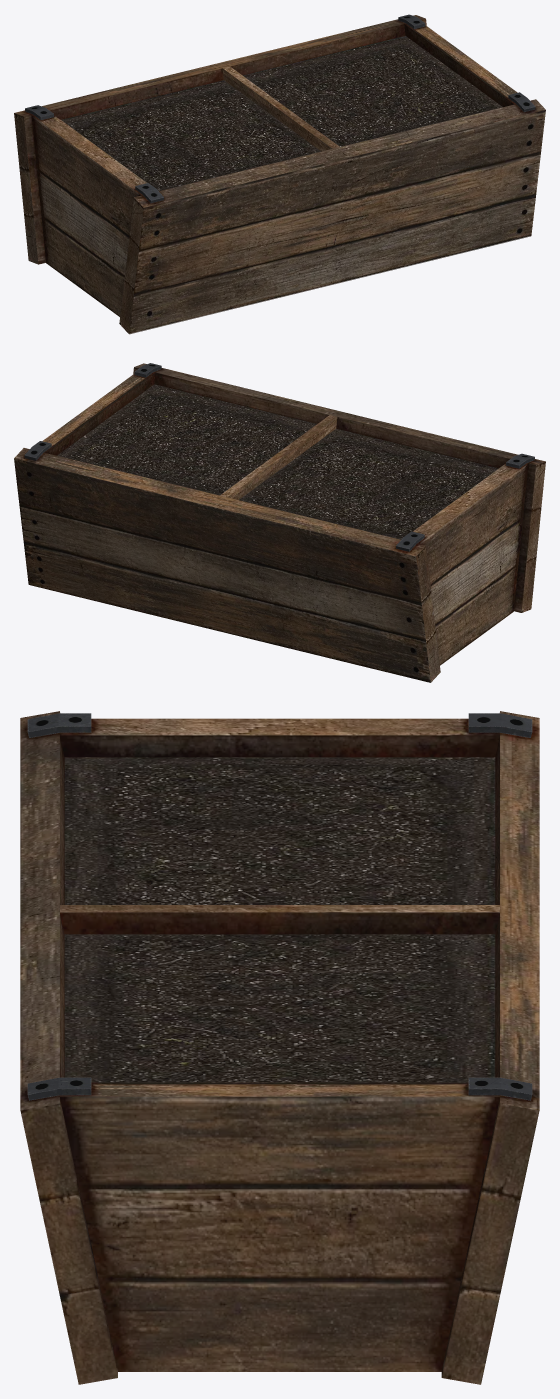
File: planter_box_single.glb
3 renders of one model, top to bottom at view 1: azimuth 30°, elevation 25°; view 2: azimuth 150°, elevation 25°; view 3: azimuth 270°, elevation 25°, orthographic. The views are drawn at different scales.
Visible parts, largest first — view 1: defaultMaterial; view 2: defaultMaterial; view 3: defaultMaterial.
Boxes of the visible parts, left/top/right/bottom form: defaultMaterial: left=14, top=14, right=545, bottom=334; defaultMaterial: left=14, top=363, right=545, bottom=682; defaultMaterial: left=20, top=711, right=539, bottom=1384.
Size of the model in its own units: 450 by 154 by 251.
Materials: 1 (1 with a texture image).
